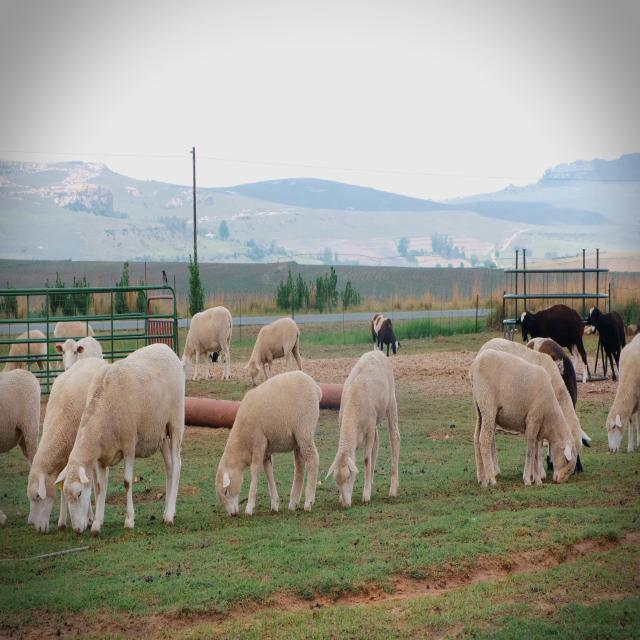sheep: (61, 337, 189, 548), (202, 349, 324, 543), (458, 331, 583, 513), (326, 335, 423, 534), (13, 366, 59, 549), (601, 332, 640, 470)
